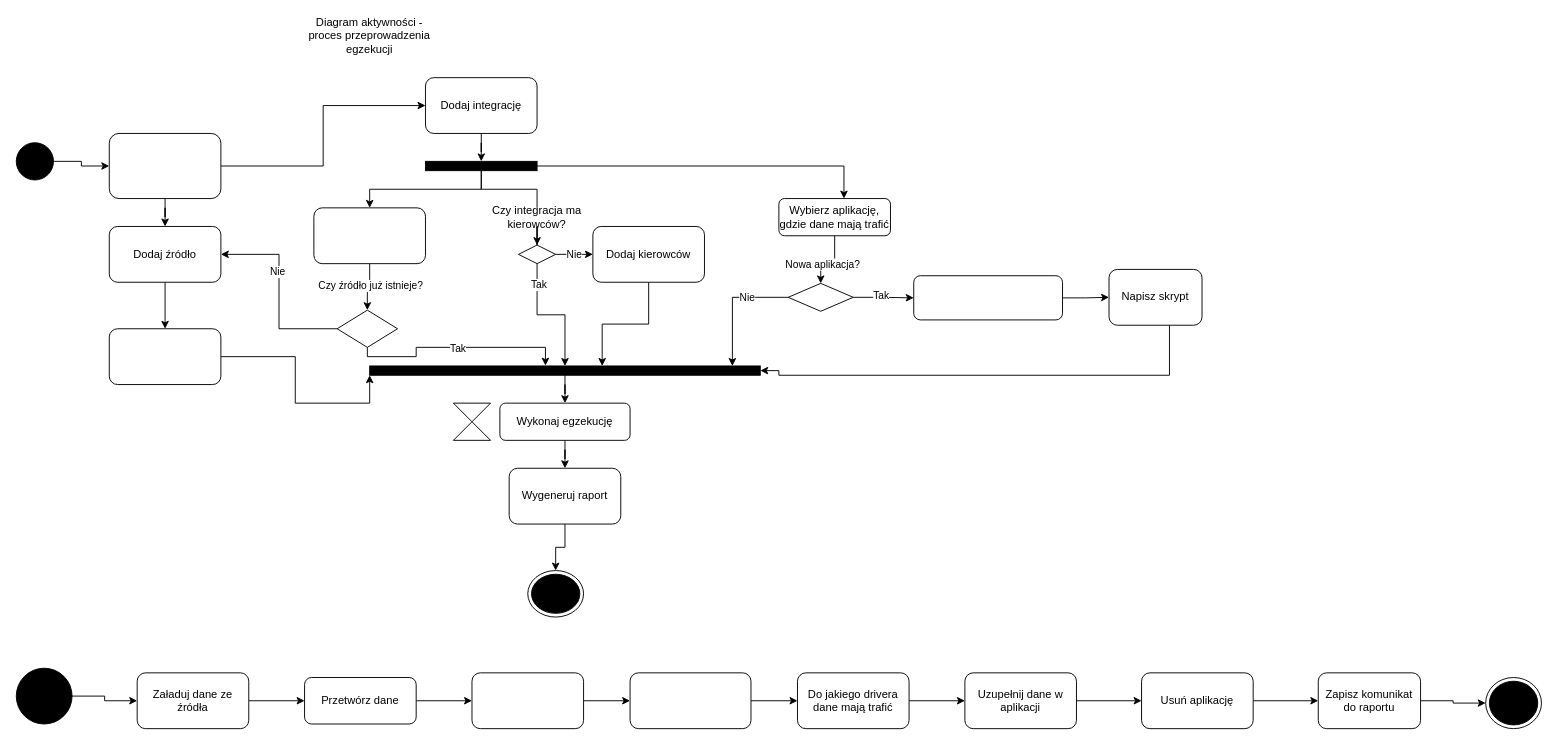
Image size: 1558x745. Some labels were removed from this diagram. Each missing label, with the centre of its shape:
"Do jakiej integracji (i aplikacji) dane mają trafić" belongs at (527,700).
"Napisz zapytanie API (SQL) do bazy Bknst" belongs at (164,356).
"Otwórz środowisko kreacji (stronę internetową)" belongs at (164,166).
"Wybierz pola (piksele), które odpowiadają danym z bazy Bknst" belongs at (988,297).
"Wybierz źródło (source)" belongs at (369,235).
"Zainstaluj aplikację na emulatorze" belongs at (690,700).
